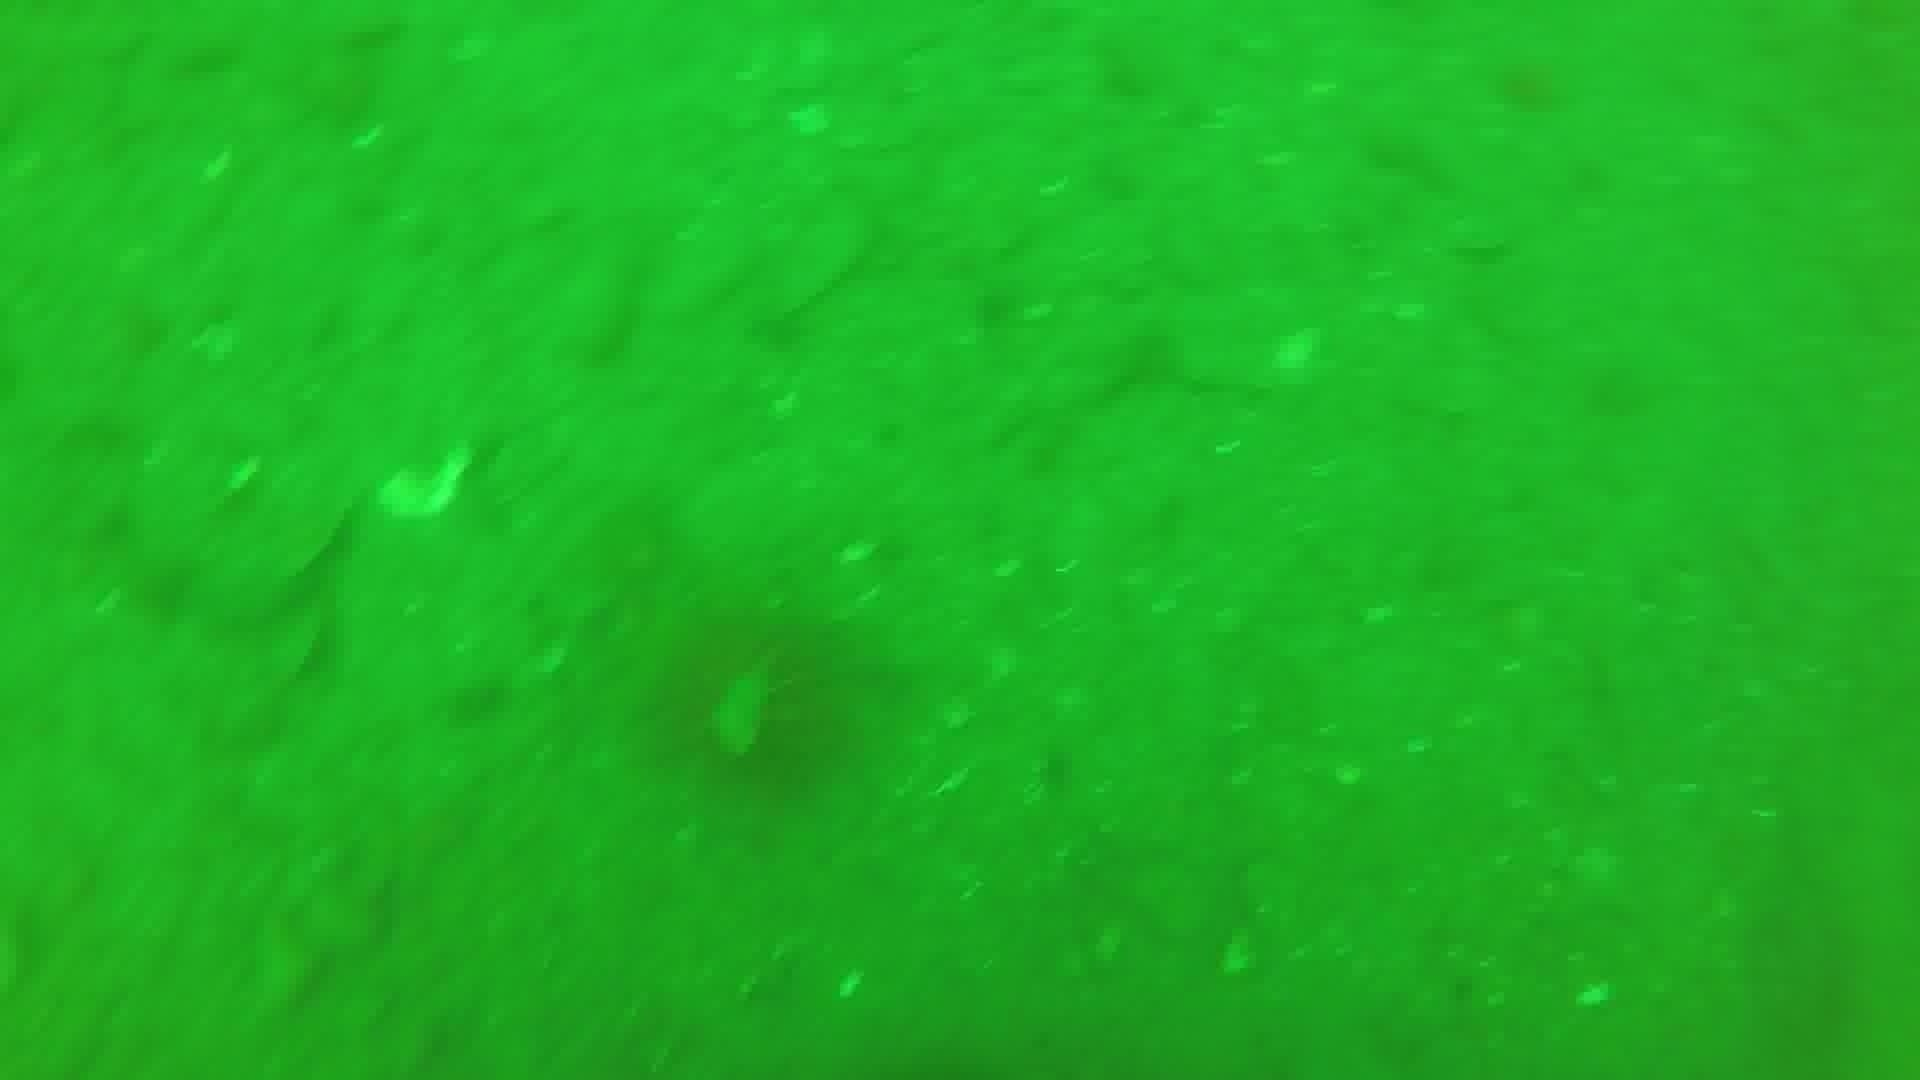echinus: (630, 601, 884, 827)
